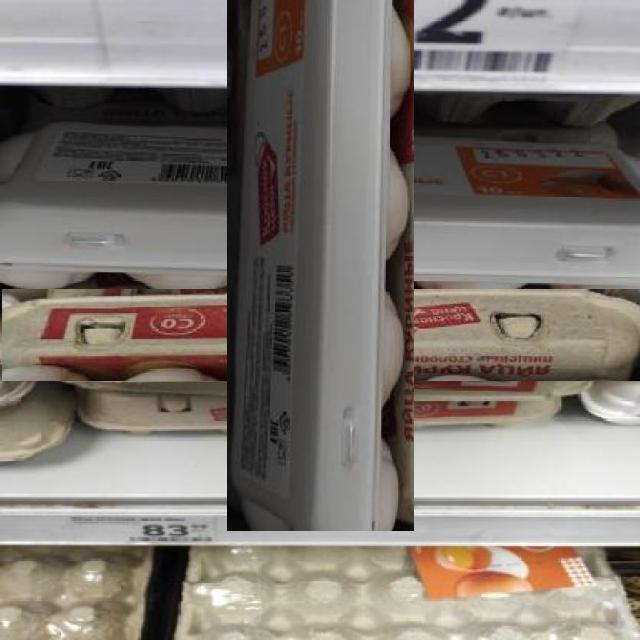Egg: (227, 0, 414, 531), (1, 288, 640, 381)
